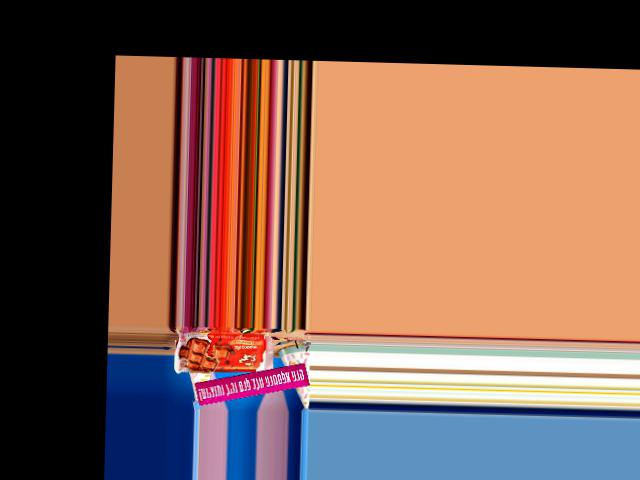chocolate: (171, 329, 276, 377)
